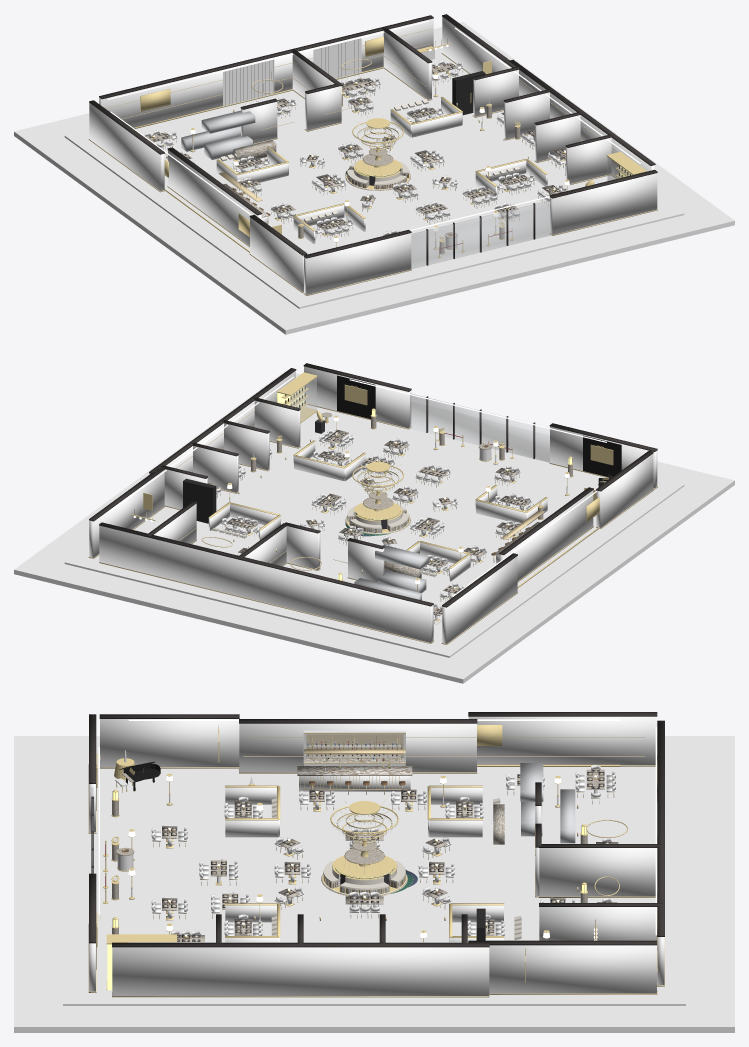
File: the_golden_oak_interior.glb
3 views of the same model, one above another, from view 1: azimuth 30°, elevation 25°; view 2: azimuth 150°, elevation 25°; view 3: azimuth 270°, elevation 25° (orthographic). The views are drawn at different scales.
Visible parts, largest first — view 1: Main_Restaurant_Floor, Exterior_Ground_Plinth, Wall_North_Main, South_Glass_Portico, Wall_South_Left, Wall_South_Right, Wall_West_Center, Wall_West_Upper, Wall_West_Lower, VIP1_Fluted_Wall, Part_VIP2_East, Wall_East_Upper (+20 smaller); view 2: Main_Restaurant_Floor, Exterior_Ground_Plinth, Wall_North_Main, South_Glass_Portico, Wall_West_Upper, Wall_West_Center, Wall_South_Right, Wall_East_Upper, Wall_West_Lower, Wall_South_Left, East_Alcove_Divider_-9.5, East_Alcove_Divider_-4.5 (+20 smaller); view 3: Main_Restaurant_Floor, Exterior_Ground_Plinth, Wall_East_AlcoveBack, Wall_East_Upper, Wall_West_Upper, Wall_West_Center, Wall_West_Lower, Part_VIP1_East, Part_VIP2_East, Wall_East_AlcoveBack_Cap, Bar_Back_Bronze_Mirror, Wall_North_Main_Cap (+21 smaller).
Part boxes in pixels (bbox=[...]): Main_Restaurant_Floor: bbox=[64, 43, 684, 308]; Exterior_Ground_Plinth: bbox=[14, 22, 734, 334]; Wall_North_Main: bbox=[99, 18, 433, 127]; South_Glass_Portico: bbox=[411, 200, 551, 268]; Wall_South_Left: bbox=[304, 233, 411, 294]; Wall_South_Right: bbox=[550, 173, 657, 234]; Wall_West_Center: bbox=[168, 150, 261, 245]; Wall_West_Upper: bbox=[89, 103, 164, 190]; Wall_West_Lower: bbox=[250, 217, 303, 291]; VIP1_Fluted_Wall: bbox=[223, 59, 274, 106]; Part_VIP2_East: bbox=[383, 31, 431, 99]; Wall_East_Upper: bbox=[442, 17, 511, 73]; Main_Restaurant_Floor: bbox=[64, 405, 684, 657]; Exterior_Ground_Plinth: bbox=[14, 371, 734, 683]; Wall_North_Main: bbox=[99, 525, 433, 642]; South_Glass_Portico: bbox=[409, 393, 549, 462]; Wall_West_Upper: bbox=[442, 556, 517, 643]; Wall_West_Center: bbox=[499, 490, 593, 581]; Wall_South_Right: bbox=[304, 366, 411, 428]; Wall_East_Upper: bbox=[89, 470, 164, 557]; Wall_West_Lower: bbox=[596, 453, 653, 527]; Wall_South_Left: bbox=[550, 426, 657, 488]; East_Alcove_Divider_-9.5: bbox=[254, 400, 300, 447]; East_Alcove_Divider_-4.5: bbox=[224, 423, 269, 470]; Main_Restaurant_Floor: bbox=[63, 754, 685, 1005]; Exterior_Ground_Plinth: bbox=[14, 736, 734, 1032]; Wall_East_AlcoveBack: bbox=[112, 947, 489, 995]; Wall_East_Upper: bbox=[489, 945, 656, 993]; Wall_West_Upper: bbox=[468, 716, 656, 765]; Wall_West_Center: bbox=[239, 723, 476, 772]; Wall_West_Lower: bbox=[100, 719, 239, 767]; Part_VIP1_East: bbox=[539, 848, 657, 896]; Part_VIP2_East: bbox=[539, 907, 657, 950]; Wall_East_AlcoveBack_Cap: bbox=[112, 942, 489, 947]; Bar_Back_Bronze_Mirror: bbox=[306, 734, 403, 758]; Wall_North_Main_Cap: bbox=[657, 720, 664, 936].
Bounding box in the file's own units: 42 × 5.38 × 44.
63 materials, 2 textured.
